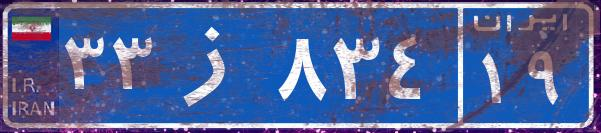1: (475, 38, 525, 113)
3: (330, 28, 385, 110), (57, 26, 110, 107), (110, 28, 158, 105)
4: (385, 28, 445, 110)
8: (273, 28, 330, 110)
9: (525, 38, 570, 115)
ز: (158, 15, 273, 115)
